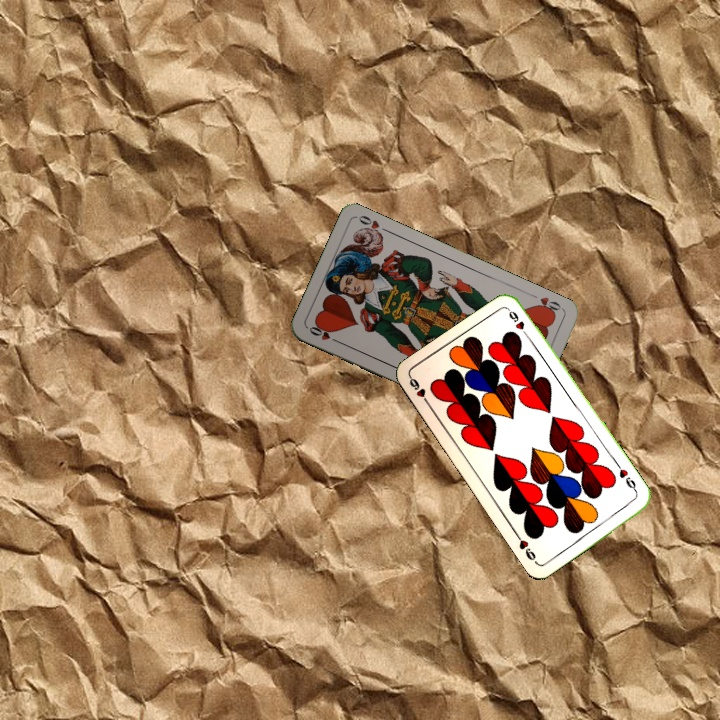H9: (405, 373, 434, 409), (613, 460, 641, 497)
HO: (305, 321, 343, 346), (530, 293, 565, 318)
